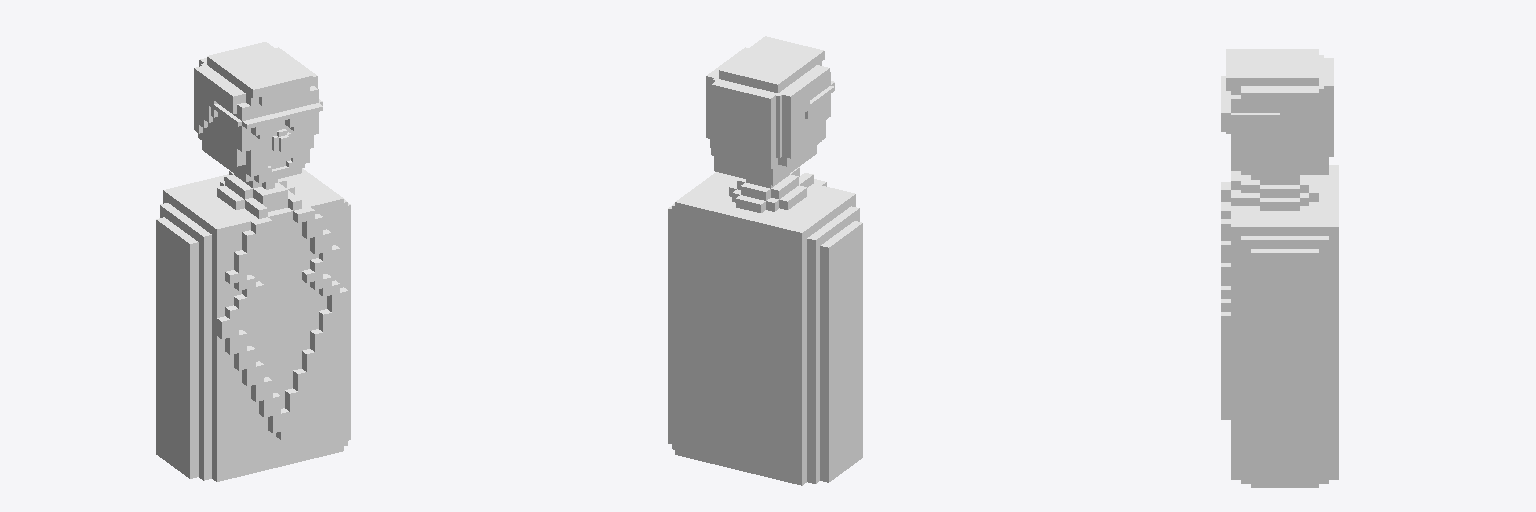
The model's file is Agent_Smith.obj.
3 views of the same model, side by side, from view 1: azimuth 30°, elevation 25°; view 2: azimuth 150°, elevation 25°; view 3: azimuth 270°, elevation 25° (orthographic).
Parts seen in each view (by area): view 1: Agent_Smith; view 2: Agent_Smith; view 3: Agent_Smith.
Boxes of the visible parts, x1=… form: Agent_Smith: x1=156, y1=42, x2=350, y2=481; Agent_Smith: x1=668, y1=36, x2=862, y2=485; Agent_Smith: x1=1221, y1=49, x2=1338, y2=487.
Bounding box in the file's own units: 38 × 87 × 24.